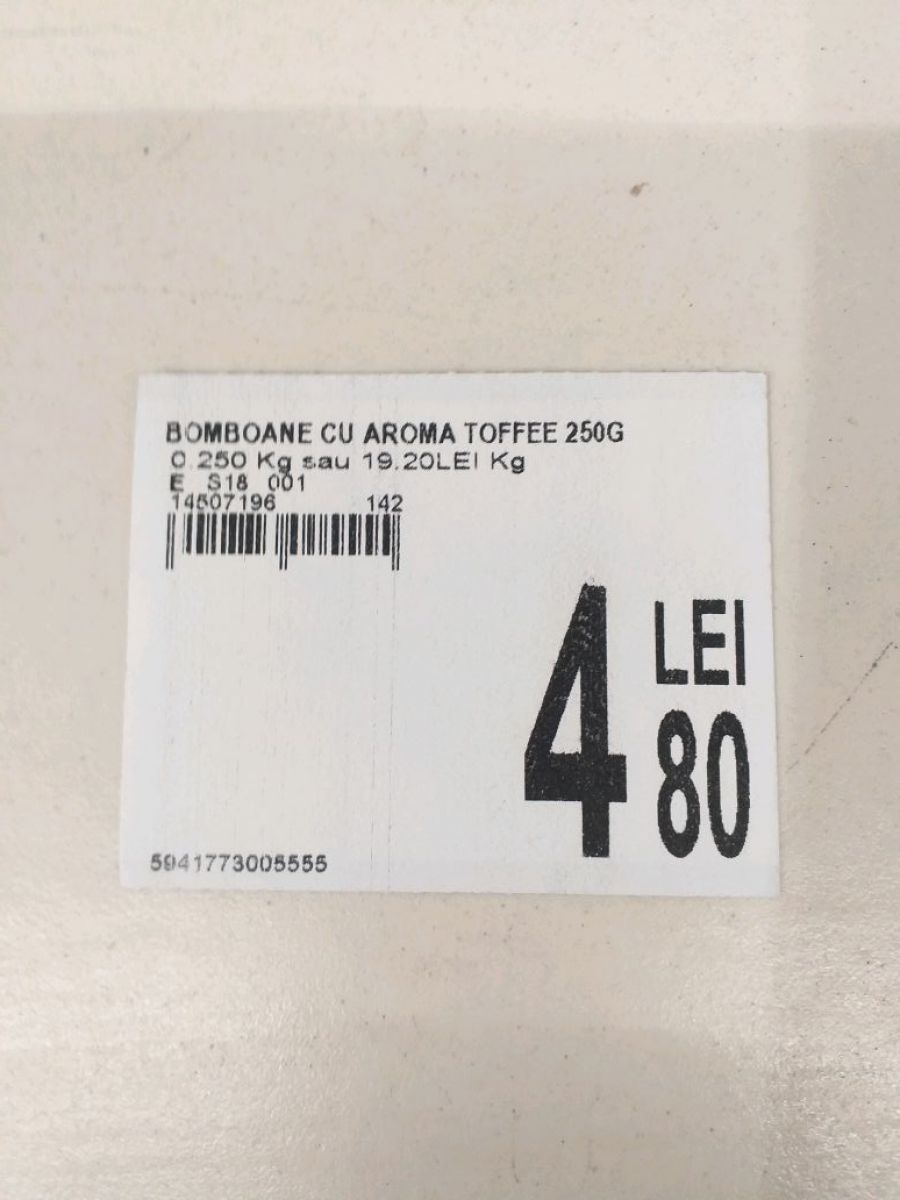price_bani: (639, 703, 769, 869)
price_lei: (509, 571, 635, 874)
price_tag: (95, 349, 819, 922)
product_id: (129, 841, 354, 883)
product_name: (153, 414, 650, 446)
